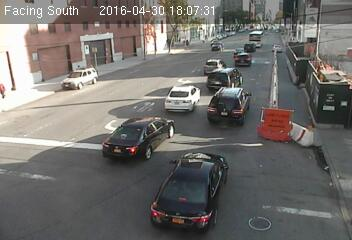neg: (160, 166, 196, 214), (201, 154, 224, 184), (167, 84, 184, 106), (117, 130, 131, 149), (228, 93, 241, 111)
